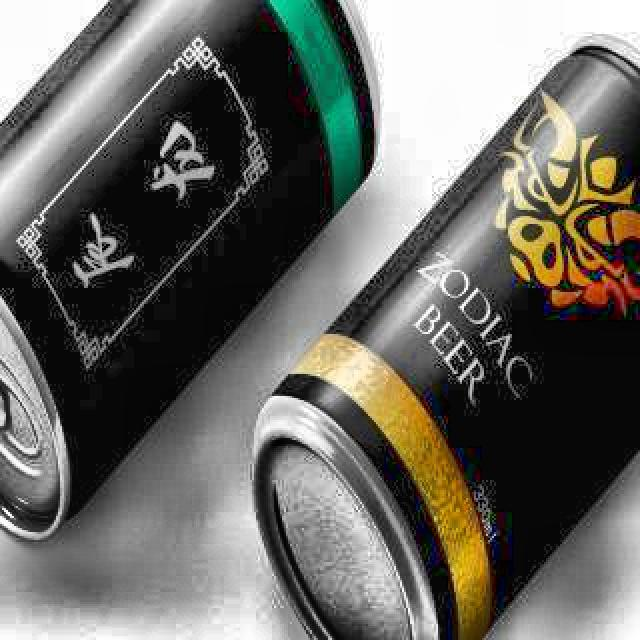metal: (240, 22, 640, 640), (0, 0, 394, 556)
